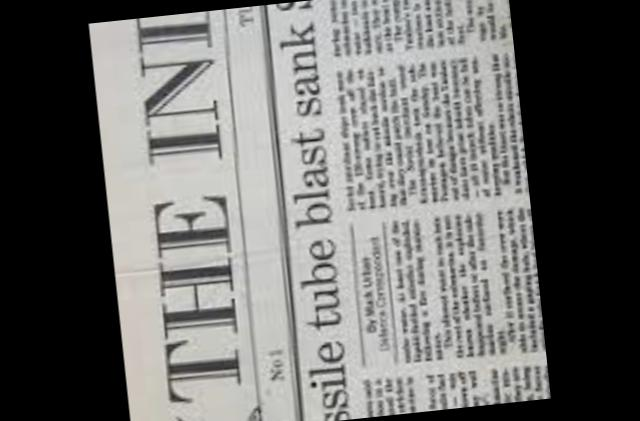cardboard paper: (89, 0, 551, 421)
